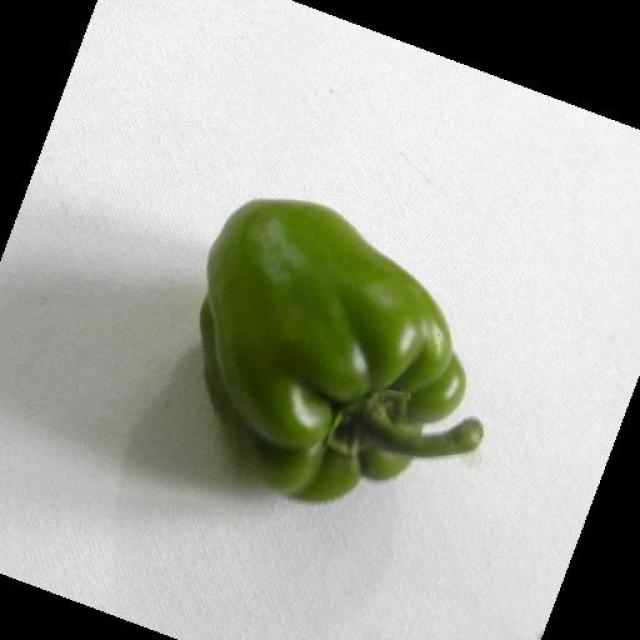Fresh_Capsicum: (182, 209, 508, 519)
